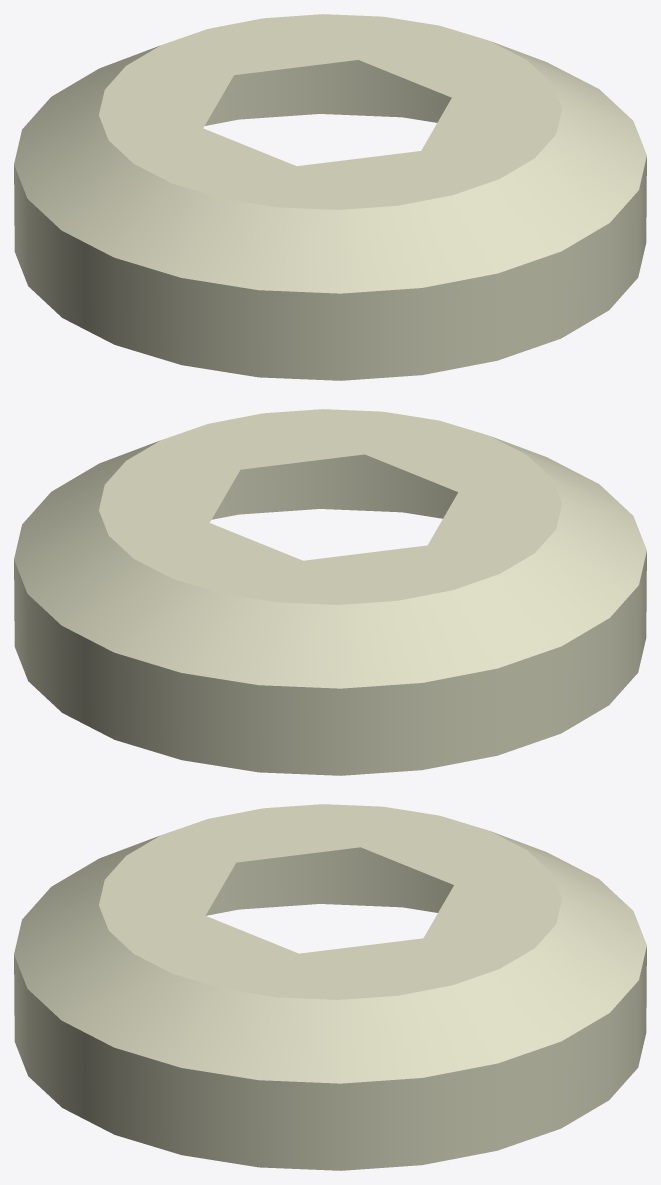
Rendered from original-97.obj.
3 renders of one model, top to bottom at view 1: azimuth 30°, elevation 25°; view 2: azimuth 150°, elevation 25°; view 3: azimuth 270°, elevation 25°, orthographic.
Parts seen in each view (by area): view 1: #ID455; view 2: #ID455; view 3: #ID455.
Part boxes in pixels (bbox=[...]): #ID455: bbox=[14, 14, 646, 380]; #ID455: bbox=[14, 409, 646, 775]; #ID455: bbox=[14, 804, 646, 1170].
Size of the model in its own units: 0.0799 by 0.0188 by 0.0799.
